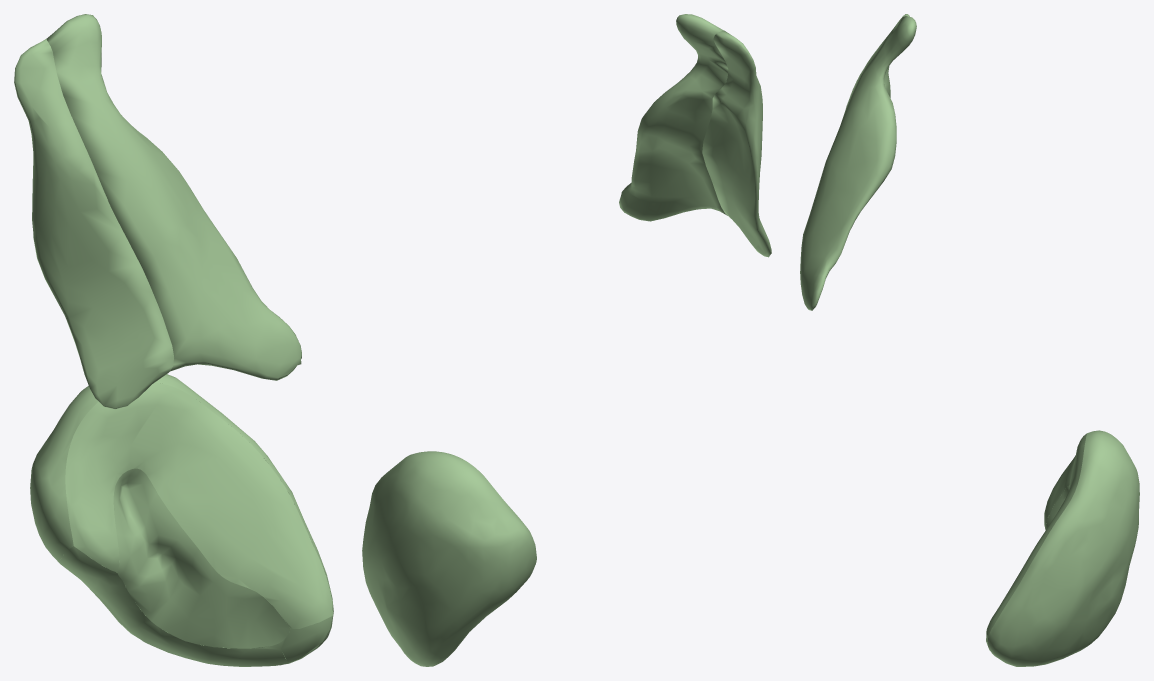
Rendered from adult_female.lymphatic.LOD4.glb.
The picture shows the model from 3 angles, left to right: view 1: azimuth 30°, elevation 25°; view 2: azimuth 150°, elevation 25°; view 3: azimuth 270°, elevation 25°; orthographic projection. The views are drawn at different scales.
Parts seen in each view (by area): view 1: ADULT.FEMALE.LYMPHATIC.GASTRIC_SURFACE_OF_SPLEEN, ADULT.FEMALE.LYMPHATIC.THYMUS_LOBE.L, ADULT.FEMALE.LYMPHATIC.THYMUS_LOBE.R, ADULT.FEMALE.LYMPHATIC.HILUM_OF_SPLEEN, ADULT.FEMALE.LYMPHATIC.DIAPHRAGMATIC_SURFACE_OF_SPLEEN, ADULT.FEMALE.LYMPHATIC.RENAL_SURFACE_OF_SPLEEN, ADULT.FEMALE.LYMPHATIC.COLIC_SURFACE_OF_SPLEEN; view 2: ADULT.FEMALE.LYMPHATIC.DIAPHRAGMATIC_SURFACE_OF_SPLEEN, ADULT.FEMALE.LYMPHATIC.THYMUS_LOBE.L, ADULT.FEMALE.LYMPHATIC.THYMUS_LOBE.R; view 3: ADULT.FEMALE.LYMPHATIC.DIAPHRAGMATIC_SURFACE_OF_SPLEEN, ADULT.FEMALE.LYMPHATIC.THYMUS_LOBE.L, ADULT.FEMALE.LYMPHATIC.GASTRIC_SURFACE_OF_SPLEEN.
Part boxes in pixels (x1,y1,x2,y2): ADULT.FEMALE.LYMPHATIC.GASTRIC_SURFACE_OF_SPLEEN: [65, 382, 332, 628]; ADULT.FEMALE.LYMPHATIC.THYMUS_LOBE.L: [46, 14, 301, 380]; ADULT.FEMALE.LYMPHATIC.THYMUS_LOBE.R: [14, 38, 173, 409]; ADULT.FEMALE.LYMPHATIC.HILUM_OF_SPLEEN: [113, 468, 290, 648]; ADULT.FEMALE.LYMPHATIC.DIAPHRAGMATIC_SURFACE_OF_SPLEEN: [30, 374, 333, 666]; ADULT.FEMALE.LYMPHATIC.RENAL_SURFACE_OF_SPLEEN: [59, 546, 289, 666]; ADULT.FEMALE.LYMPHATIC.COLIC_SURFACE_OF_SPLEEN: [279, 615, 332, 662]; ADULT.FEMALE.LYMPHATIC.DIAPHRAGMATIC_SURFACE_OF_SPLEEN: [362, 451, 536, 666]; ADULT.FEMALE.LYMPHATIC.THYMUS_LOBE.L: [619, 14, 728, 221]; ADULT.FEMALE.LYMPHATIC.THYMUS_LOBE.R: [702, 30, 771, 257]; ADULT.FEMALE.LYMPHATIC.DIAPHRAGMATIC_SURFACE_OF_SPLEEN: [987, 430, 1139, 666]; ADULT.FEMALE.LYMPHATIC.THYMUS_LOBE.L: [800, 16, 916, 310]; ADULT.FEMALE.LYMPHATIC.GASTRIC_SURFACE_OF_SPLEEN: [986, 433, 1086, 635].
Bounding box in the file's own units: 0.147 × 0.2821 × 0.1566.
